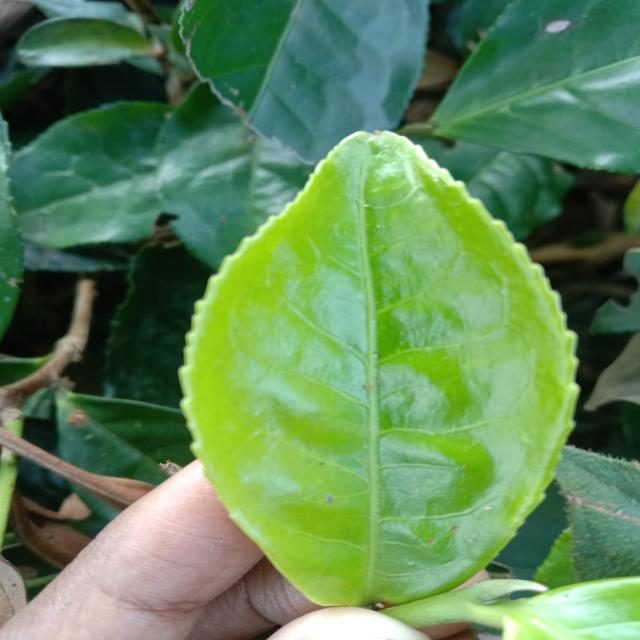Category B(2-4 days): (176, 123, 581, 615)
